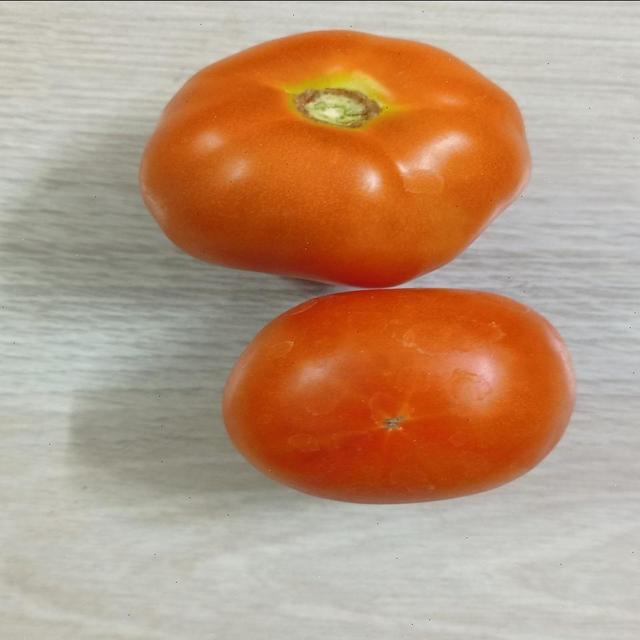Healthy Fruit: (224, 104, 271, 266)
